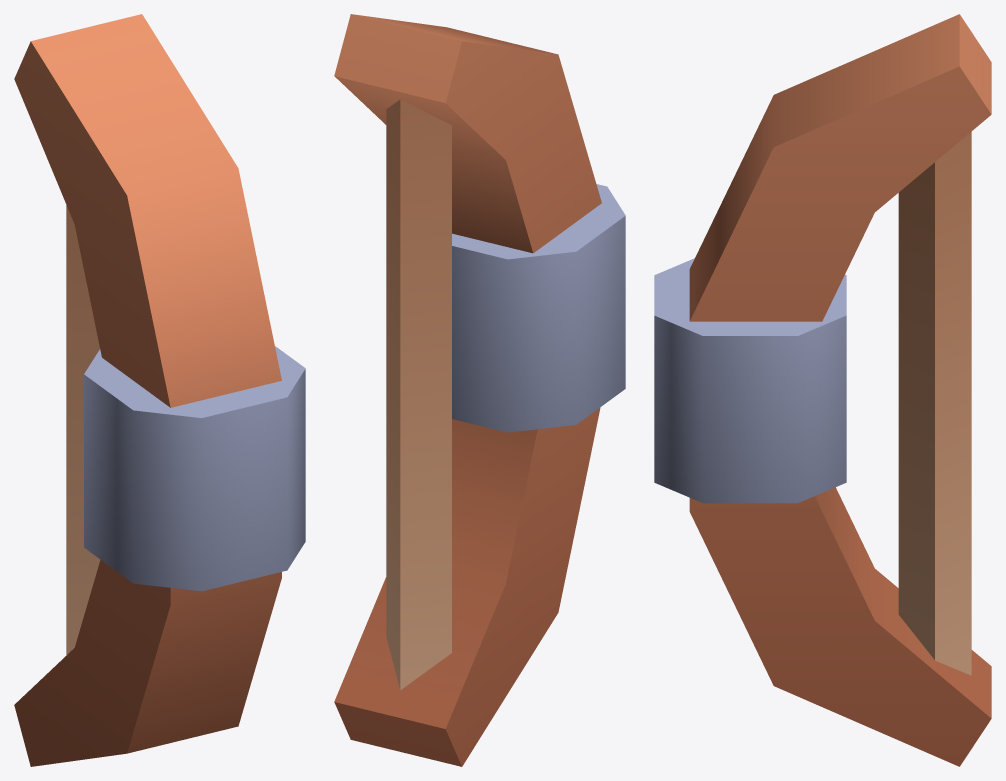
File: bow.glb
3 renders of one model, left to right at view 1: azimuth 30°, elevation 25°; view 2: azimuth 150°, elevation 25°; view 3: azimuth 270°, elevation 25°, orthographic. The views are drawn at different scales.
Parts seen in each view (by area): view 1: weapon-bow; view 2: weapon-bow; view 3: weapon-bow.
Boxes of the visible parts, x1,y1,x2,y2 form: weapon-bow: [14, 14, 305, 766]; weapon-bow: [334, 14, 625, 766]; weapon-bow: [654, 14, 991, 766].
Bounding box in the file's own units: 0.119 × 0.4787 × 0.2089.
Materials: 1 (1 with a texture image).
